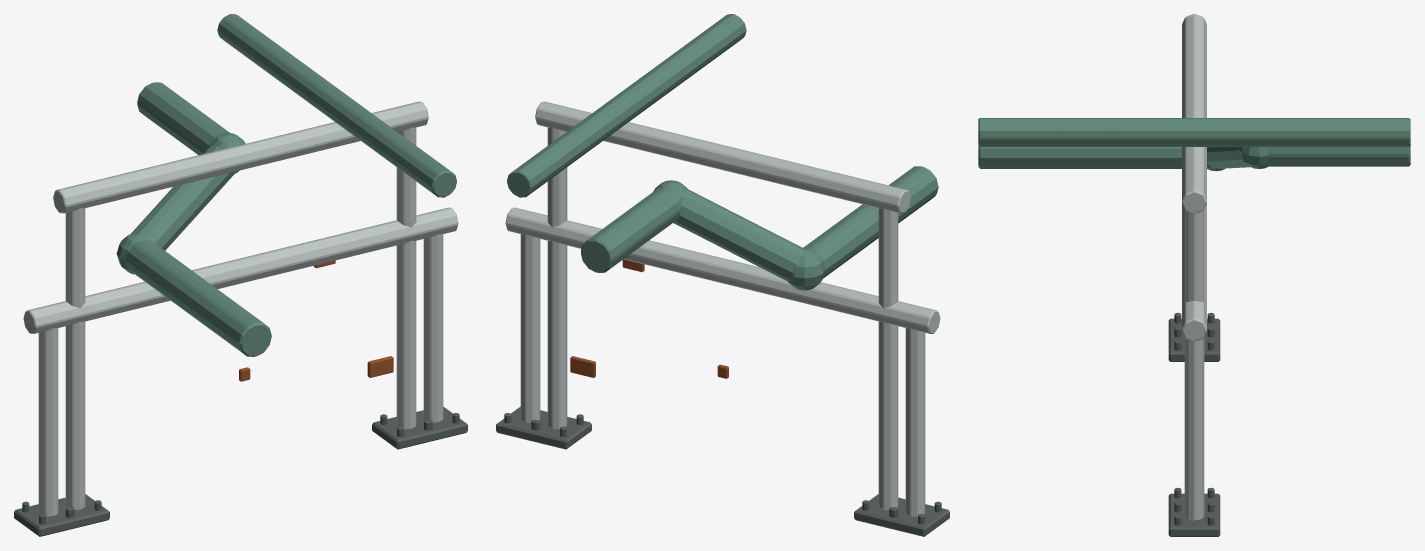
File: runtime.glb
The picture shows the model from 3 angles, left to right: view 1: azimuth 30°, elevation 25°; view 2: azimuth 150°, elevation 25°; view 3: azimuth 270°, elevation 25°; orthographic projection.
Visible parts, largest first — view 1: reactor-pipe-support-v02_nocol; view 2: reactor-pipe-support-v02_nocol; view 3: reactor-pipe-support-v02_nocol.
Boxes of the visible parts, left/top/right/bottom form: reactor-pipe-support-v02_nocol: left=14, top=14, right=467, bottom=536; reactor-pipe-support-v02_nocol: left=496, top=14, right=949, bottom=536; reactor-pipe-support-v02_nocol: left=978, top=14, right=1410, bottom=536.
Bounding box in the file's own units: 4.6 × 3.68 × 4.
